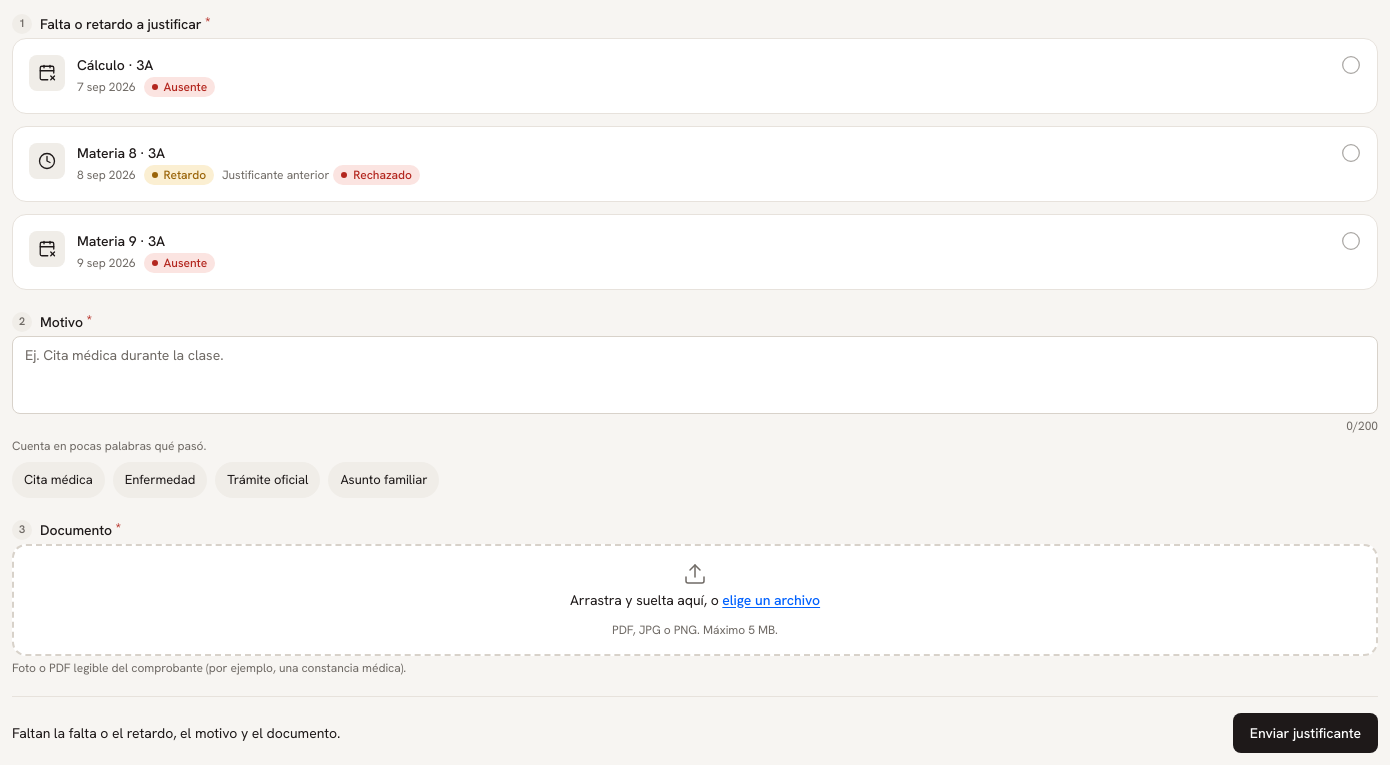
Test: FormularioJustificante › no envía si faltan campos: marca los errores, lleva el foco al primero y los quita al corregirlos
Check: the text "Escribe el motivo." is not shown
Click the button "Enviar justificante" at [1305, 733], box [1233,713,1378,753]
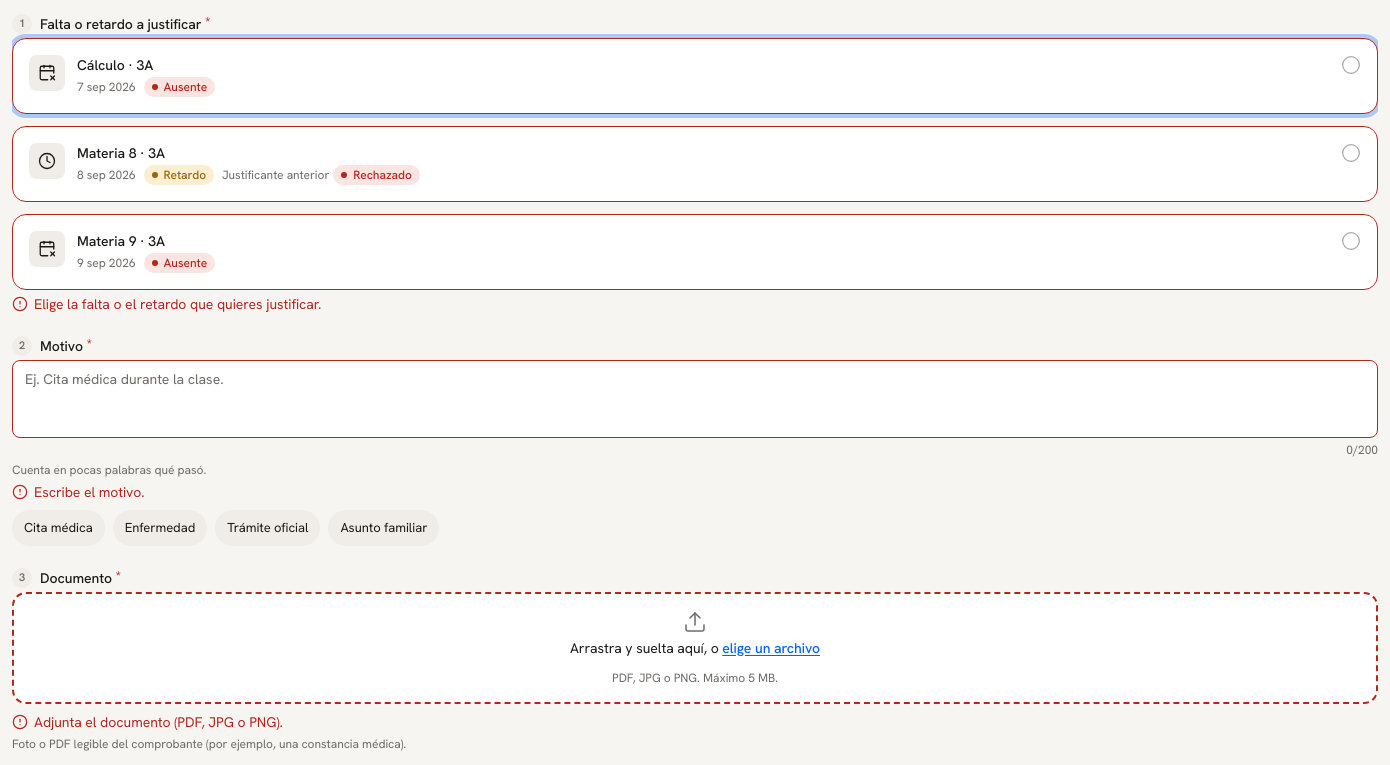
Check: the text "Escribe el motivo." is shown, box [12,483,144,501]
Check: the text "Elige la falta o el retardo que quieres justificar." is shown, box [12,295,321,313]
Check: the text "Adjunta el documento (PDF, JPG o PNG)." is shown, box [12,713,283,731]
Click the radio button labelled "Cálculo · 3A 7 sep 2026 Ausente" at [47, 73], box [29,55,1361,97]
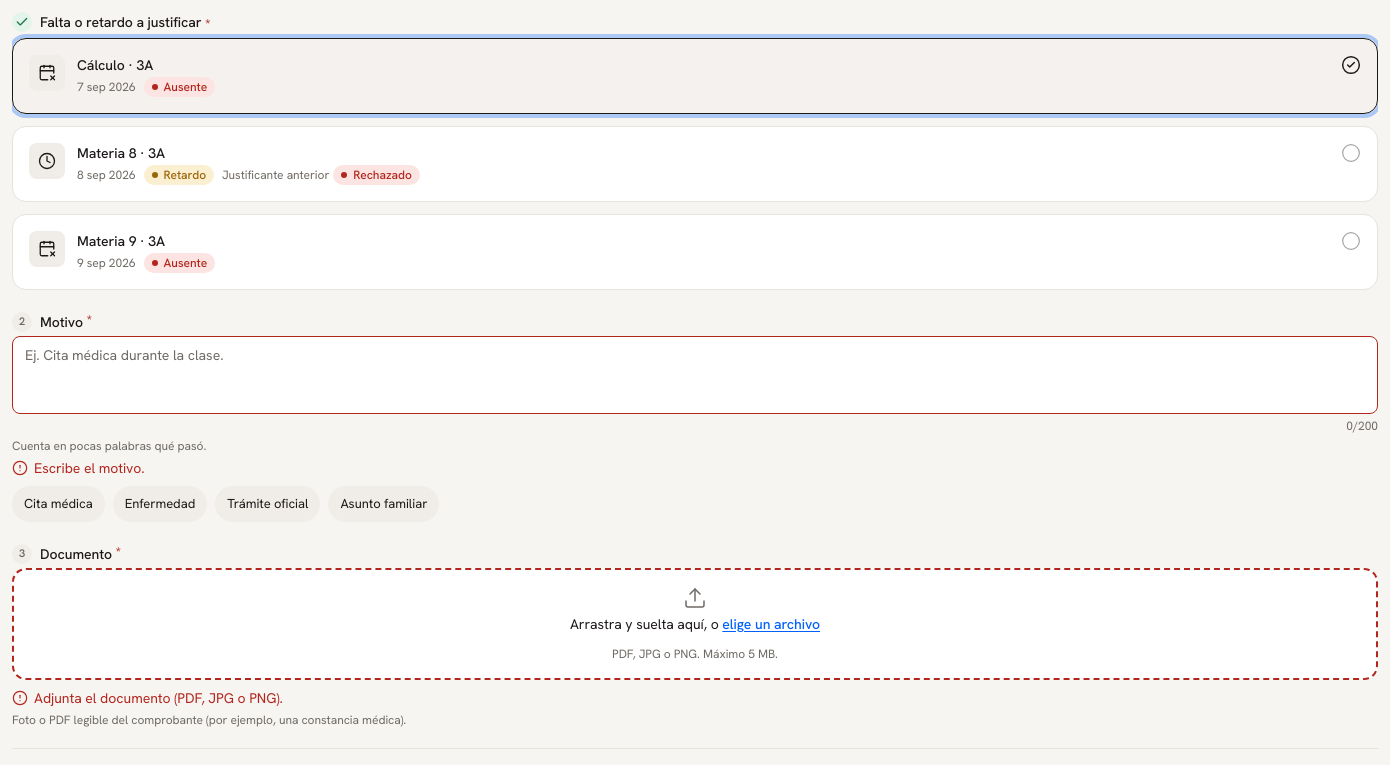
Check: the text "Elige la falta o el retardo que quieres justificar." is gone
Type "Cita" into the text box labelled "2 Motivo *" at [695, 375], box [12,336,1378,414]
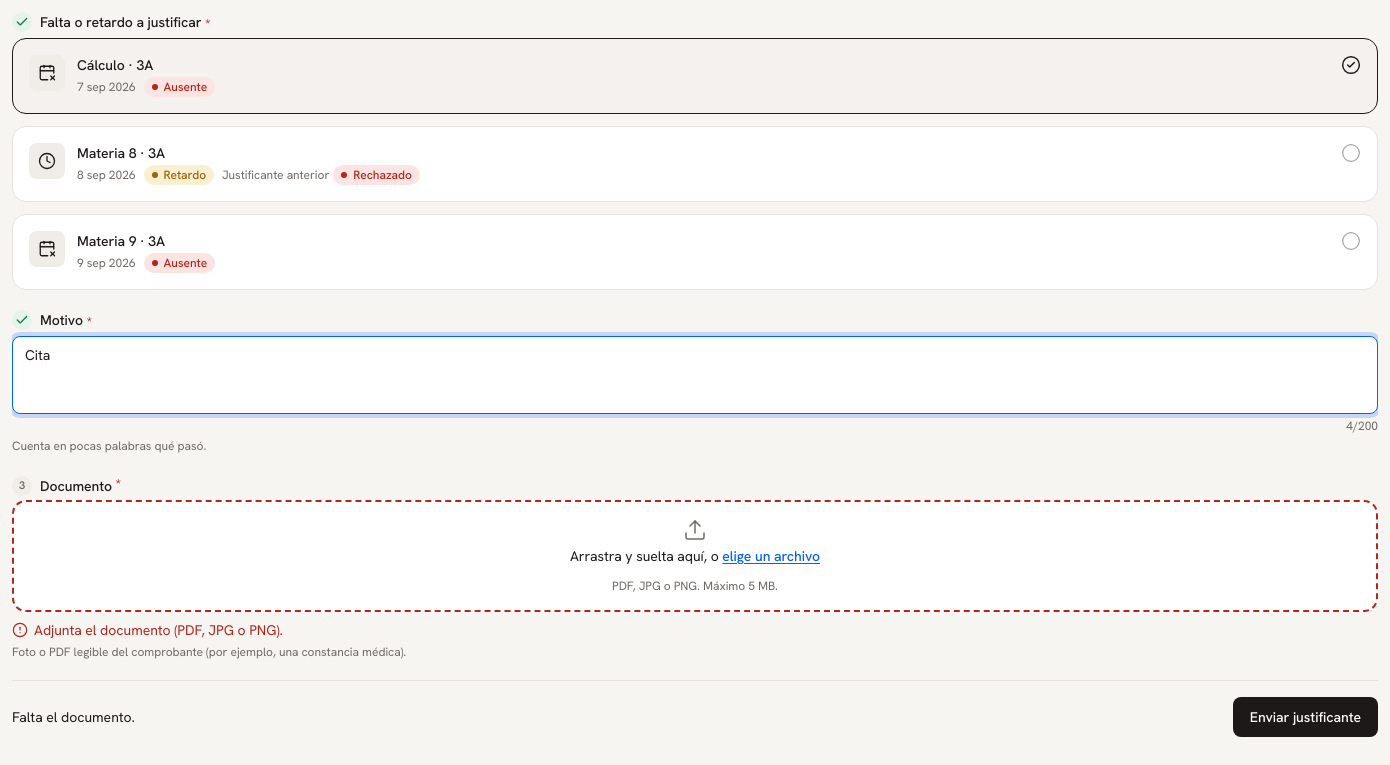
Check: the text "Adjunta el documento (PDF, JPG o PNG)." is shown, box [12,621,283,639]
Check: the text "Escribe el motivo." is gone
